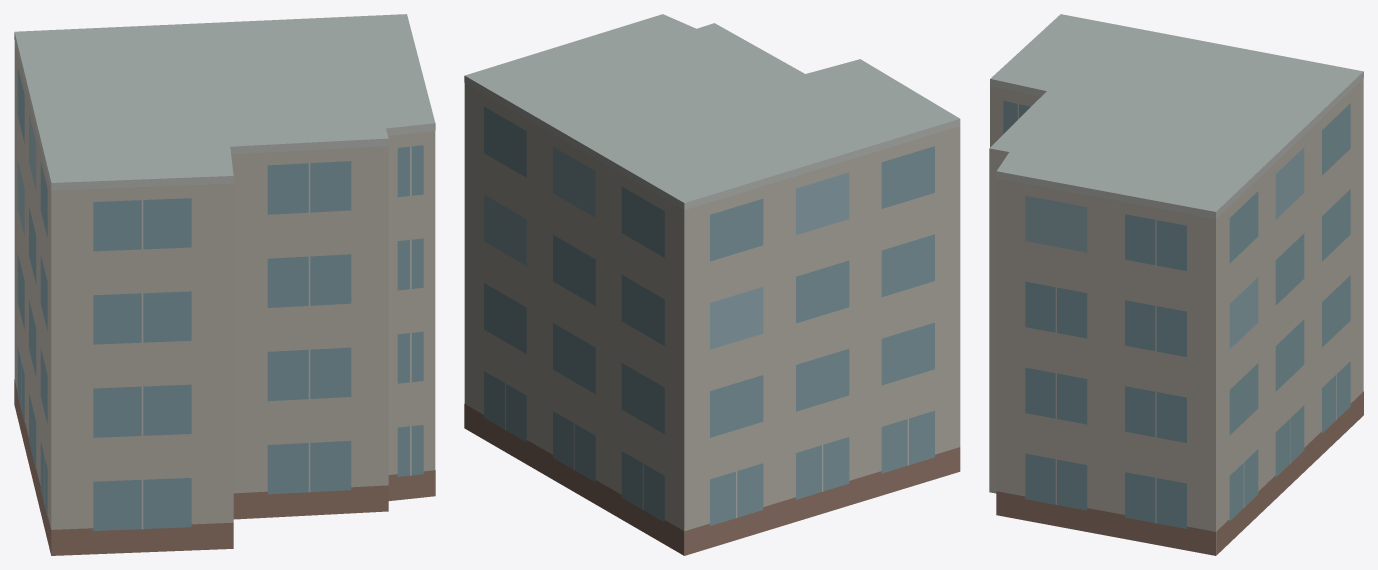
Rendered from survey-upis-33037389.glb.
The picture shows the model from 3 angles, left to right: view 1: azimuth 30°, elevation 25°; view 2: azimuth 150°, elevation 25°; view 3: azimuth 270°, elevation 25°; orthographic projection. The views are drawn at different scales.
Visible parts, largest first — view 1: survey-upis-33037389.tmp; view 2: survey-upis-33037389.tmp; view 3: survey-upis-33037389.tmp.
Part boxes in pixels (x1=…): survey-upis-33037389.tmp: x1=14, y1=14, x2=435, y2=555; survey-upis-33037389.tmp: x1=464, y1=14, x2=960, y2=555; survey-upis-33037389.tmp: x1=989, y1=14, x2=1363, y2=555.
Bounding box in the file's own units: 14.88 × 12.05 × 11.9.
